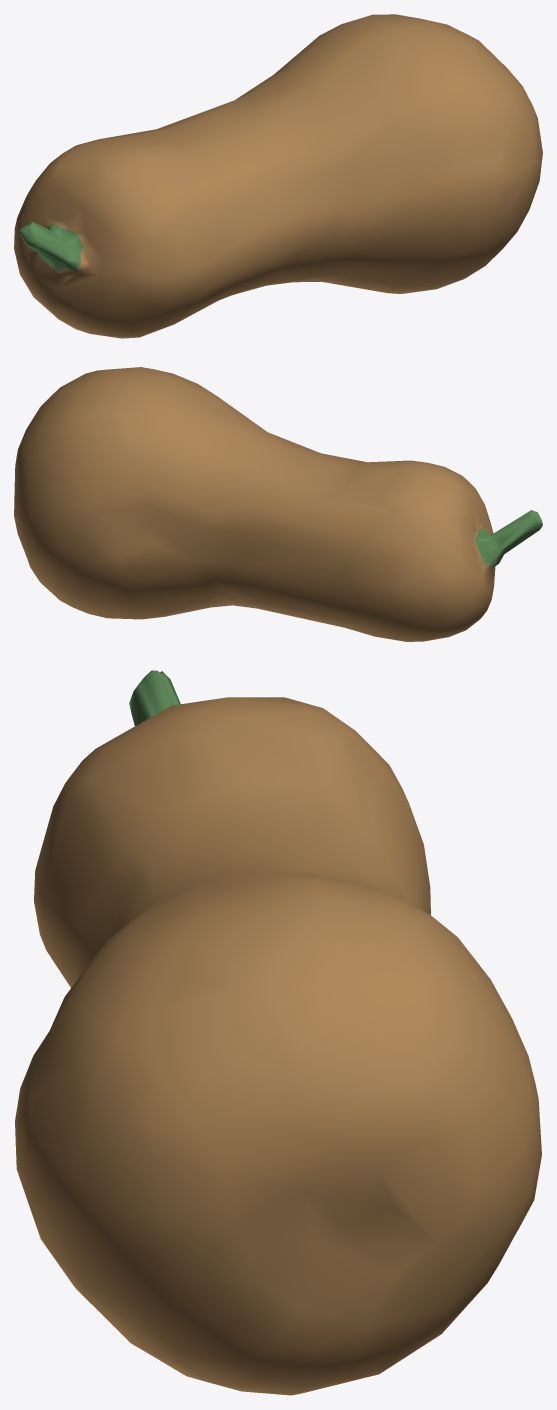
Rendered from abobora.fbx.
The picture shows the model from 3 angles, top to bottom: view 1: azimuth 30°, elevation 25°; view 2: azimuth 150°, elevation 25°; view 3: azimuth 270°, elevation 25°; orthographic projection. The views are drawn at different scales.
Visible parts, largest first — view 1: 78_calabaza1; view 2: 78_calabaza1; view 3: 78_calabaza1.
Part boxes in pixels (x1,y1,x2,y2): 78_calabaza1: (14,14,542,338); 78_calabaza1: (14,367,542,641); 78_calabaza1: (15,670,541,1395).
Size of the model in its own units: 137 by 62.51 by 64.72.
